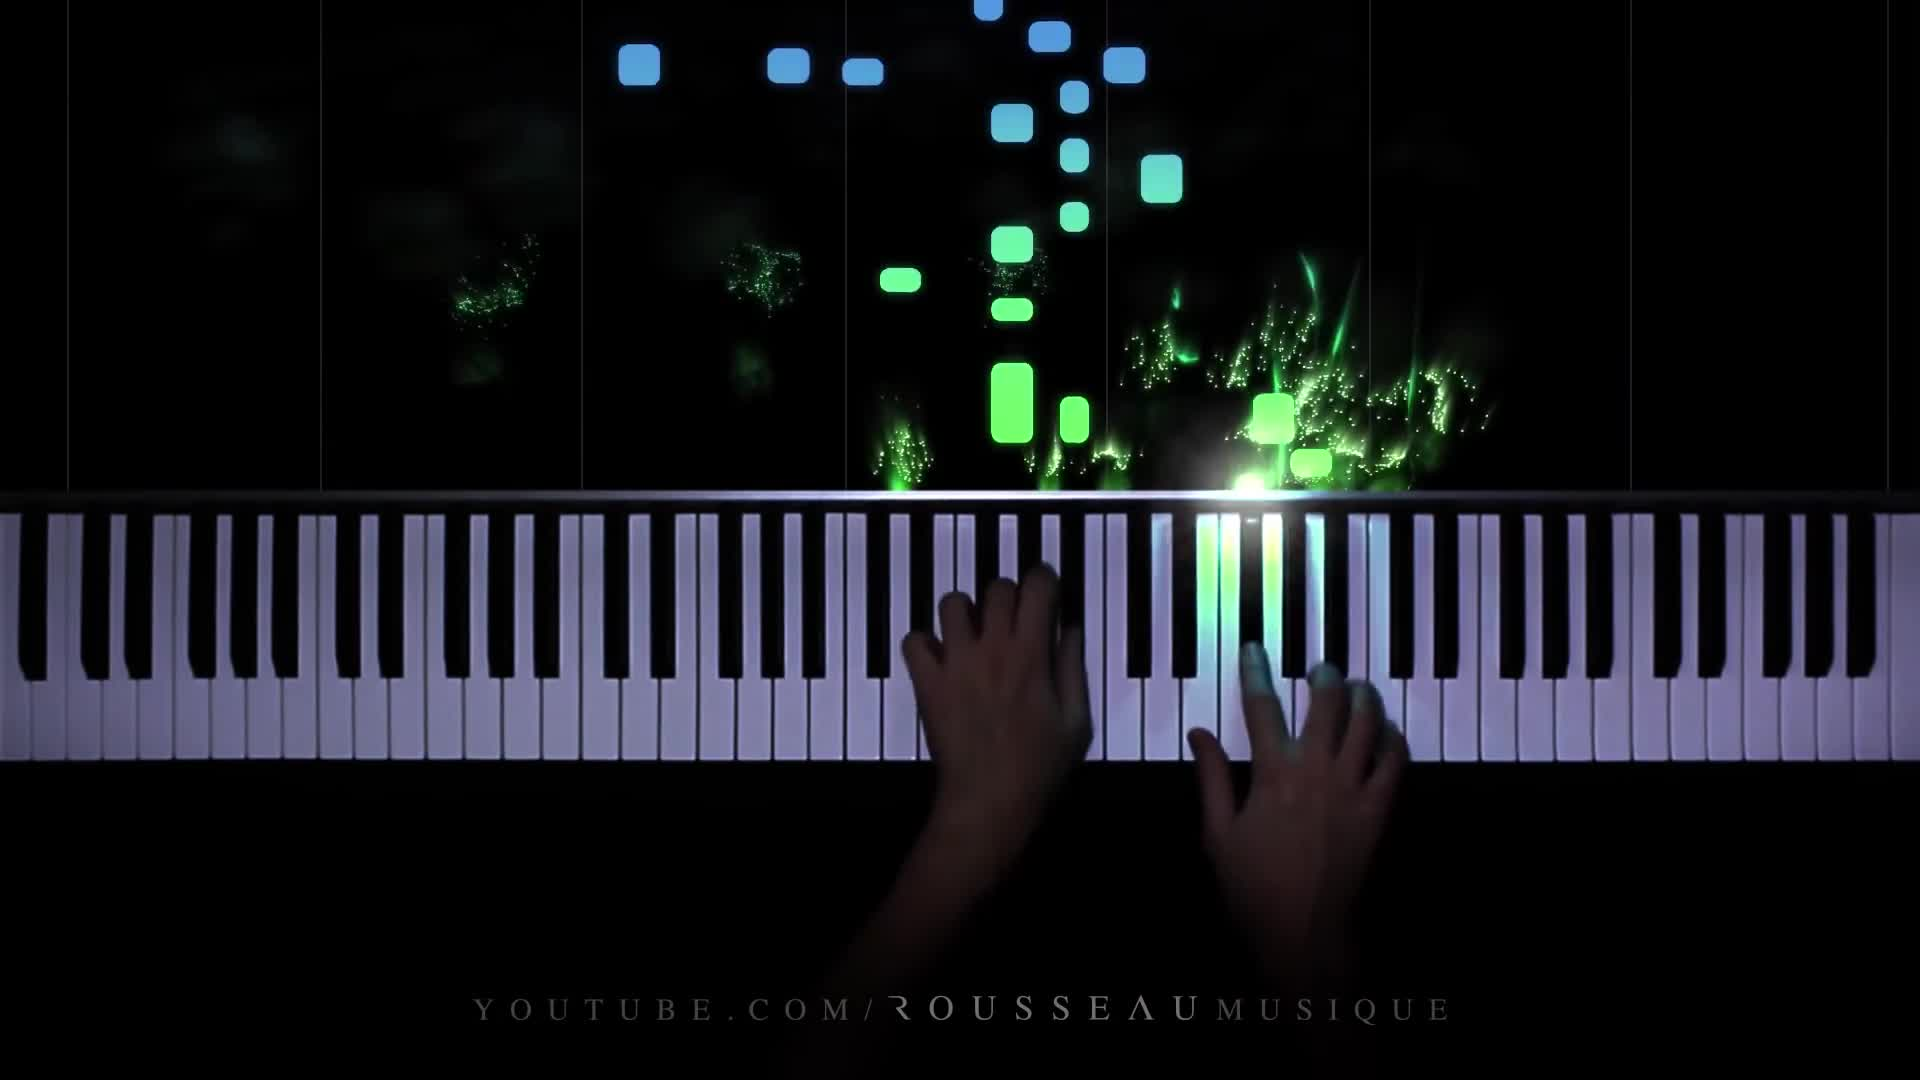left: (899, 560, 1093, 793)
right: (1191, 642, 1412, 907)
